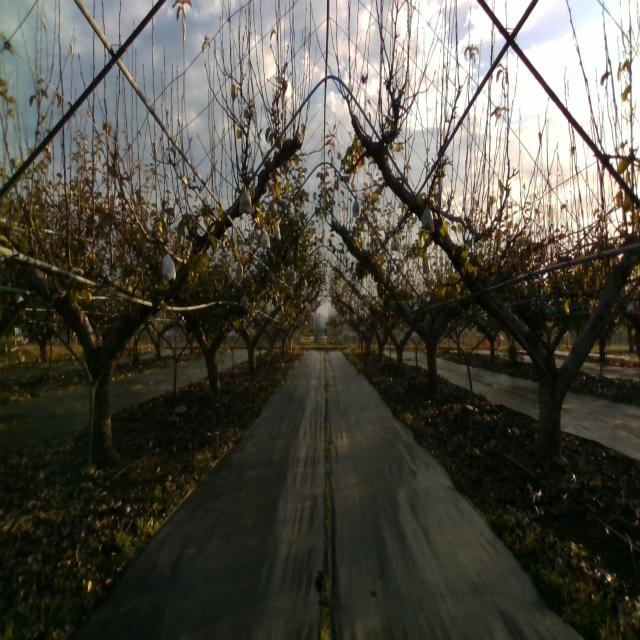pearbags: (162, 246, 176, 285), (419, 204, 435, 232), (239, 184, 252, 214), (260, 226, 271, 248)
